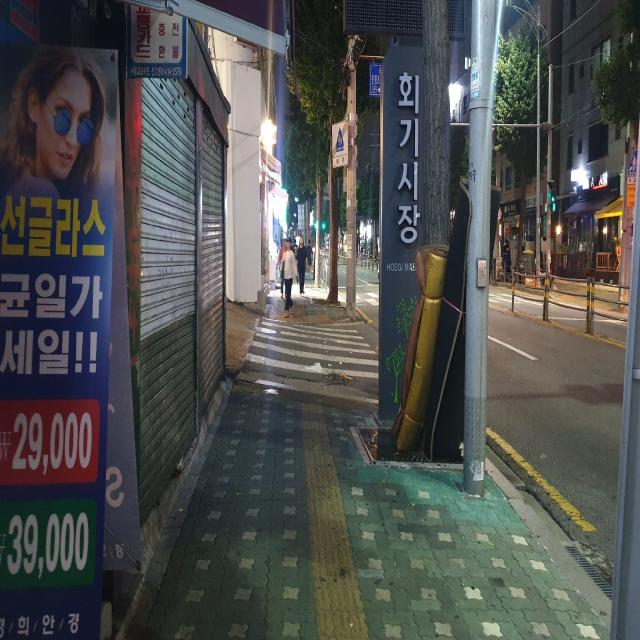횡단보도: (244, 315, 379, 380)
